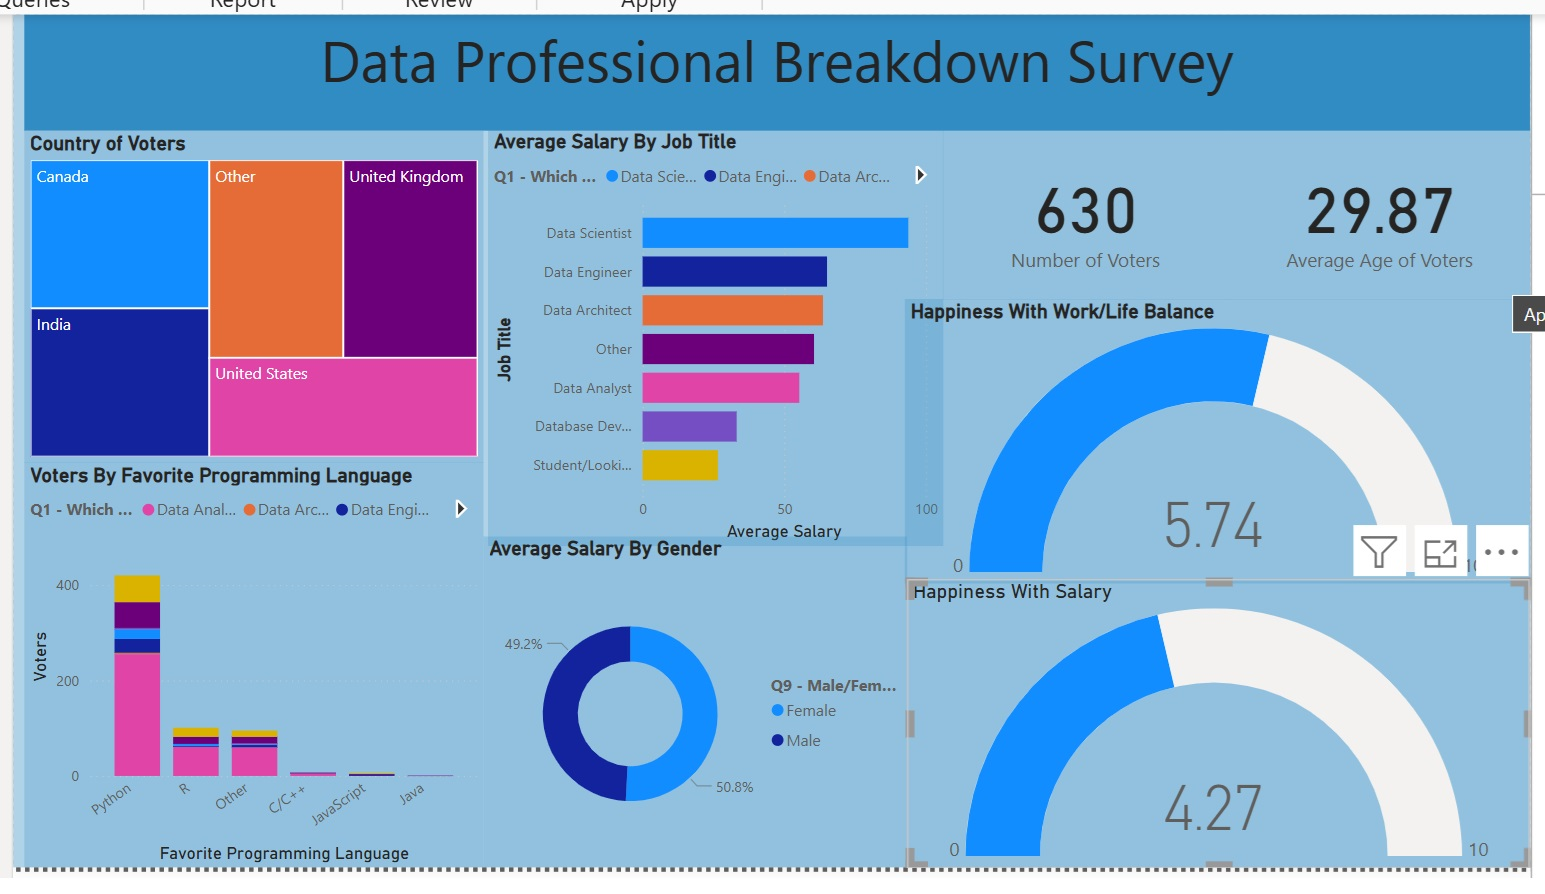

The page's visual inventory and layout, read from the dashboard file:
{"tool":"powerbi","page":{"name":"Dashboard","canvas":[1280,720],"ordinal":0},"visuals":[{"type":"textbox","box":[9.4,0,1269.9,98.3],"z":0},{"type":"card","title":"Number of Survey Participants","fields":{"Values":["Count(Data Professional Survey.Unique ID)"]},"box":[784,96,240,144],"z":1000},{"type":"card","fields":{"Values":["Avg(Data Professional Survey.Q10 - Current Age)"]},"box":[1024,96,256,144],"z":2000},{"type":"barChart","title":"Average Salary By Job Title","fields":{"Category":["Data Professional Survey.Q1 - Which Title Best Fits your Current Role?.1"],"Y":["Avg(Data Professional Survey.Average Salary)"],"Series":["Data Professional Survey.Q1 - Which Title Best Fits your Current Role?.1"]},"box":[400,96,384,352],"z":3000},{"type":"columnChart","title":"Voters By Favorite Programming Language","fields":{"Category":["Data Professional Survey.Q5 - Favorite Programming Language.1"],"Y":["CountNonNull(Data Professional Survey.Unique ID)"],"Series":["Data Professional Survey.Q1 - Which Title Best Fits your Current Role?.1"]},"box":[9.4,378,387.4,342],"z":4000},{"type":"treemap","title":"Country of Voters","fields":{"Group":["Data Professional Survey.Q11 - Which Country do you live in?.1"],"Values":["Count(Data Professional Survey.Q11 - Which Country do you live in?.1)"]},"box":[9.4,98.3,387.4,279.7],"z":5000},{"type":"gauge","title":"Happiness With Salary","fields":{"Y":["Avg(Data Professional Survey.Q6 - How Happy are you in your Current Position with the following? (Salary))"],"MinValue":["Min(Data Professional Survey.Q6 - How Happy are you in your Current Position with the following? (Salary))"],"MaxValue":["Max(Data Professional Survey.Q6 - How Happy are you in your Current Position with the following? (Salary))"]},"box":[754,476.2,525.4,243.8],"z":6000},{"type":"gauge","title":"Happiness With Work/Life Balance","fields":{"MinValue":["Min(Data Professional Survey.Q6 - How Happy are you in your Current Position with the following? (Work/Life Balance))"],"MaxValue":["Max(Data Professional Survey.Q6 - How Happy are you in your Current Position with the following? (Work/Life Balance))"],"Y":["Avg(Data Professional Survey.Q6 - How Happy are you in your Current Position with the following? (Work/Life Balance))1"]},"box":[752,240,528,240],"z":7000},{"type":"donutChart","title":"Average Salary By Gender","fields":{"Category":["Data Professional Survey.Q9 - Male/Female?"],"Y":["Avg(Data Professional Survey.Average Salary)"]},"box":[396.9,440.3,357.2,279.7],"z":8000}]}

Visuals, with their boxes in screenshot pixels (x1, y1, x2, y2):
textbox: crop(15, 8, 1527, 125)
"Number of Survey Participants" card: crop(937, 122, 1223, 294)
card - Avg(Data Professional Survey.Q10 - Current Age): crop(1223, 122, 1528, 294)
"Average Salary By Job Title" barChart: crop(480, 122, 937, 541)
"Voters By Favorite Programming Language" columnChart: crop(15, 458, 476, 865)
"Country of Voters" treemap: crop(15, 125, 476, 458)
"Happiness With Salary" gauge: crop(902, 575, 1527, 865)
"Happiness With Work/Life Balance" gauge: crop(899, 294, 1528, 579)
"Average Salary By Gender" donutChart: crop(476, 532, 902, 865)
